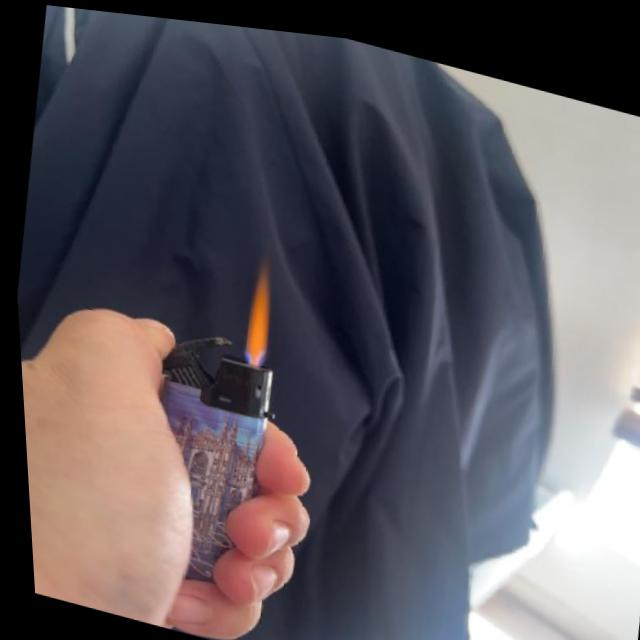Fire: (229, 254, 277, 360)
